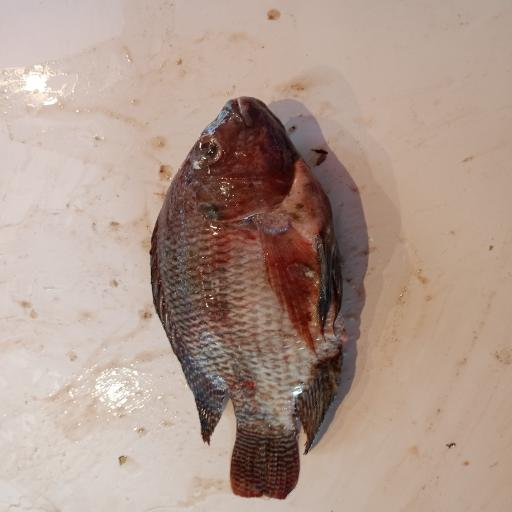Tilapia: (149, 95, 347, 500)
